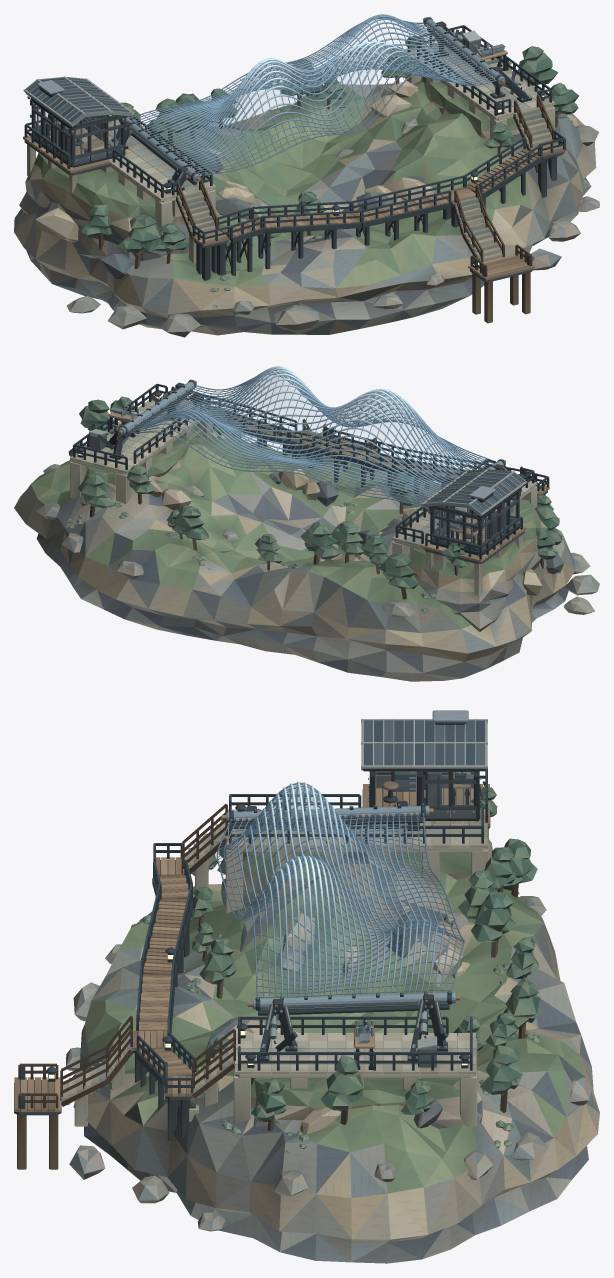
The model's file is wavefield.glb.
3 renders of one model, top to bottom at view 1: azimuth 30°, elevation 25°; view 2: azimuth 150°, elevation 25°; view 3: azimuth 270°, elevation 25°, orthographic. The views are drawn at different scales.
Visible parts, largest first — view 1: Wavefield — The Wave Loom, Warp · 33 continuous silver-blue strands, Weft · 45 continuous recessed strands, Continuous open-weave carrier; view 2: Wavefield — The Wave Loom, Warp · 33 continuous silver-blue strands, Weft · 45 continuous recessed strands, Continuous open-weave carrier; view 3: Wavefield — The Wave Loom, Warp · 33 continuous silver-blue strands, Weft · 45 continuous recessed strands, Continuous open-weave carrier.
Part boxes in pixels (left/top/right/bottom): Wavefield — The Wave Loom: left=14, top=17, right=599, bottom=337; Warp · 33 continuous silver-blue strands: left=128, top=14, right=496, bottom=176; Weft · 45 continuous recessed strands: left=135, top=15, right=490, bottom=173; Continuous open-weave carrier: left=196, top=43, right=446, bottom=146; Wavefield — The Wave Loom: left=14, top=379, right=599, bottom=681; Warp · 33 continuous silver-blue strands: left=127, top=366, right=496, bottom=508; Weft · 45 continuous recessed strands: left=133, top=367, right=491, bottom=503; Continuous open-weave carrier: left=214, top=369, right=449, bottom=475; Wavefield — The Wave Loom: left=14, top=710, right=599, bottom=1263; Warp · 33 continuous silver-blue strands: left=216, top=781, right=464, bottom=998; Weft · 45 continuous recessed strands: left=218, top=782, right=463, bottom=997; Continuous open-weave carrier: left=247, top=784, right=428, bottom=986.
Bounding box in the file's own units: 27.44 × 10.93 × 18.71.
Materials: 5 (1 with a texture image).
